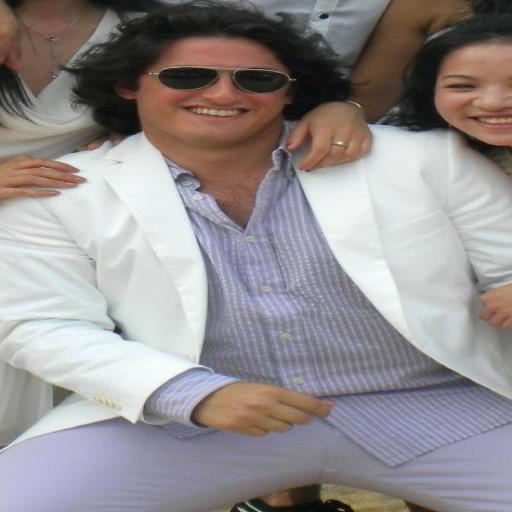person: (0, 2, 511, 511), (0, 0, 161, 198), (388, 7, 511, 174)
